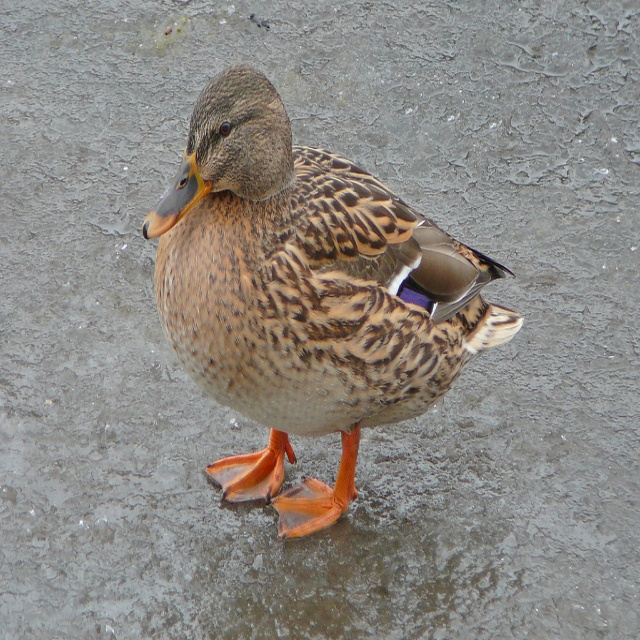Duck: (143, 82, 543, 542)
